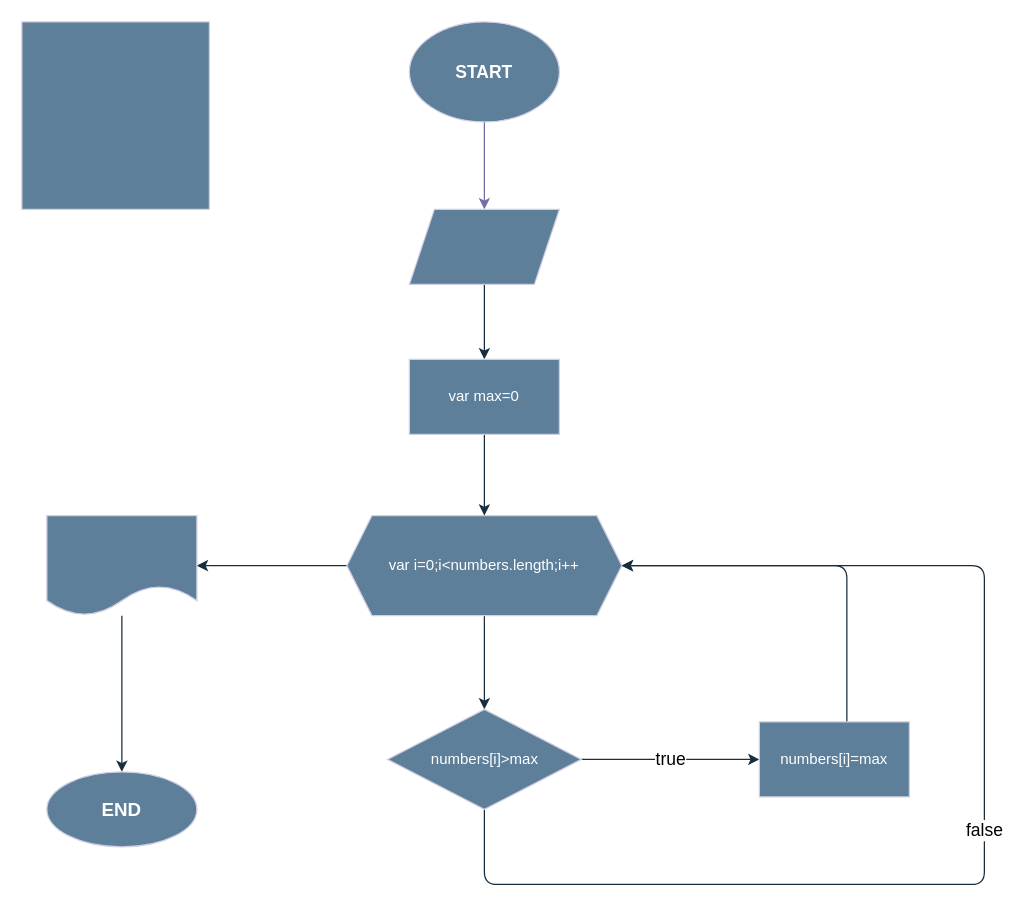
Image size: 1025x916. Some labels were removed from this diagram. The shapes that lost their labels are listed below. From the top down, each one's centre as x and y in pixels, then its label:
At pixel 115 115: "Vermilmis edeler siyahisindaki en boyuk ededi tapan alqoritm".
At pixel 483 246: "var numbers".
At pixel 121 565: "max number".
